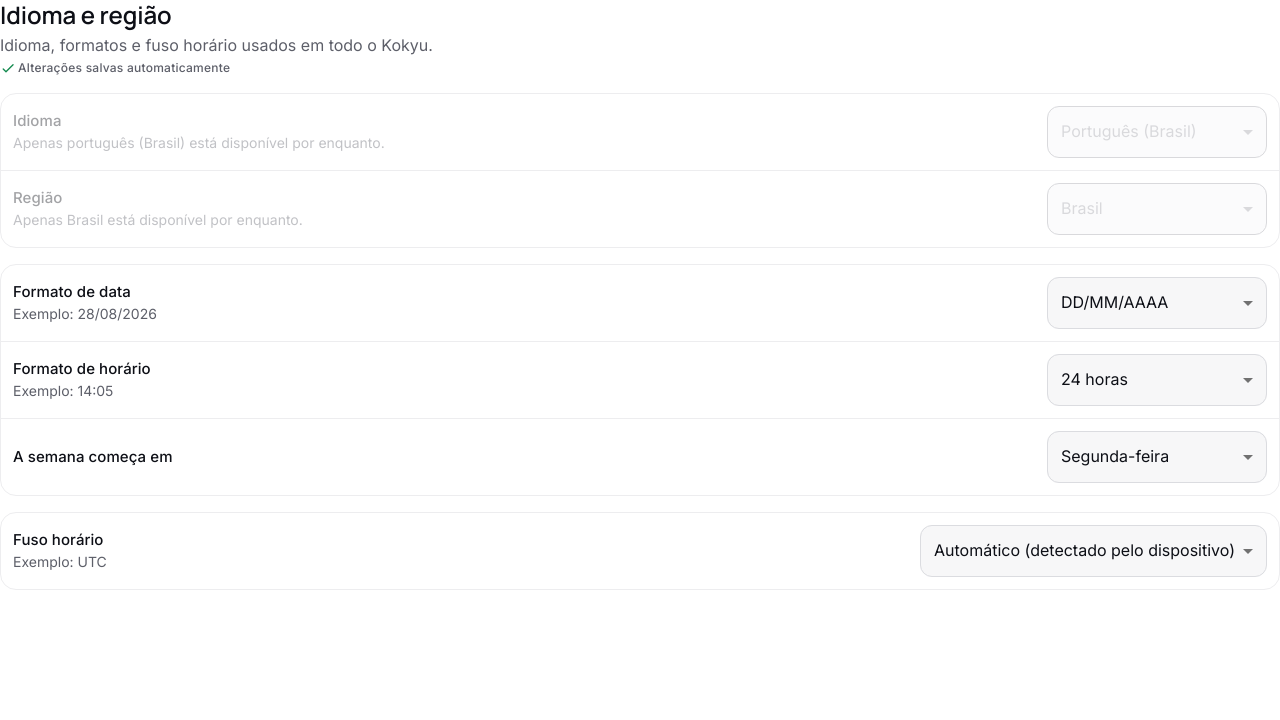
Test: LocaleSettings › changes "A semana começa em"
Step 1. Click the dropdown named "A semana começa em" → (1115, 456), box [1061, 446, 1169, 466]
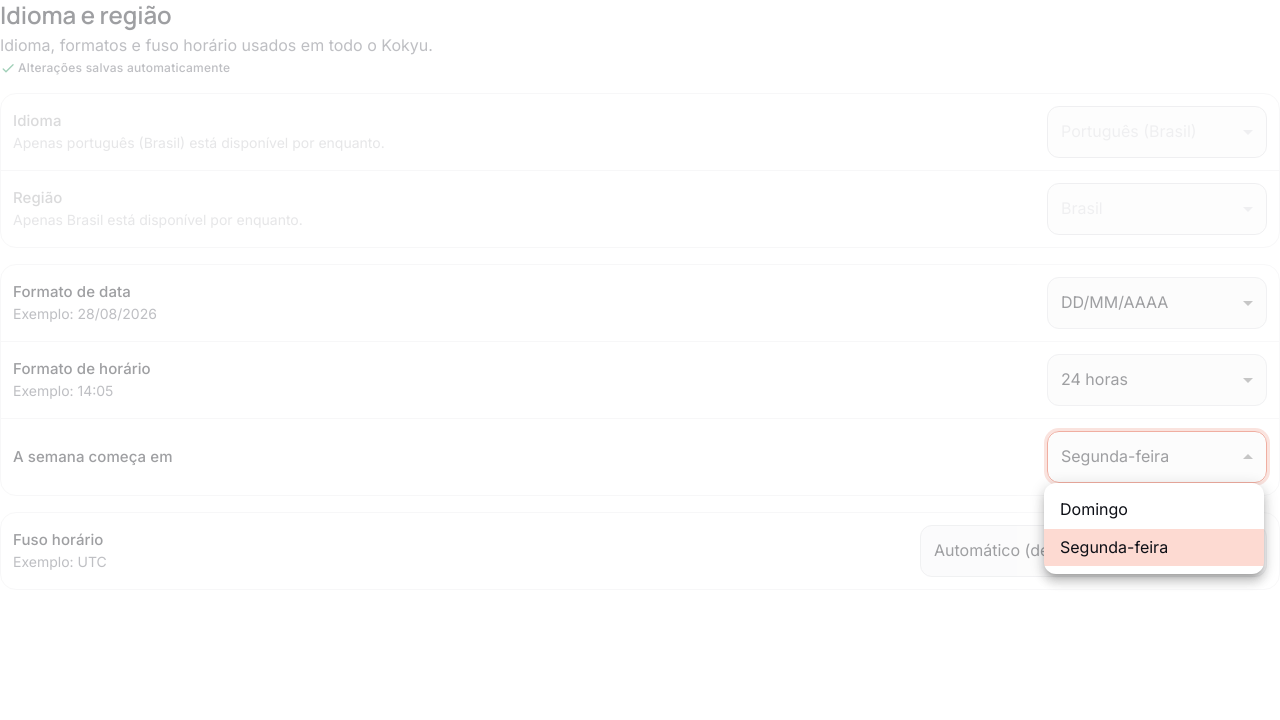
Step 2. Click the option "Domingo" → (1094, 509), box [1060, 499, 1128, 519]
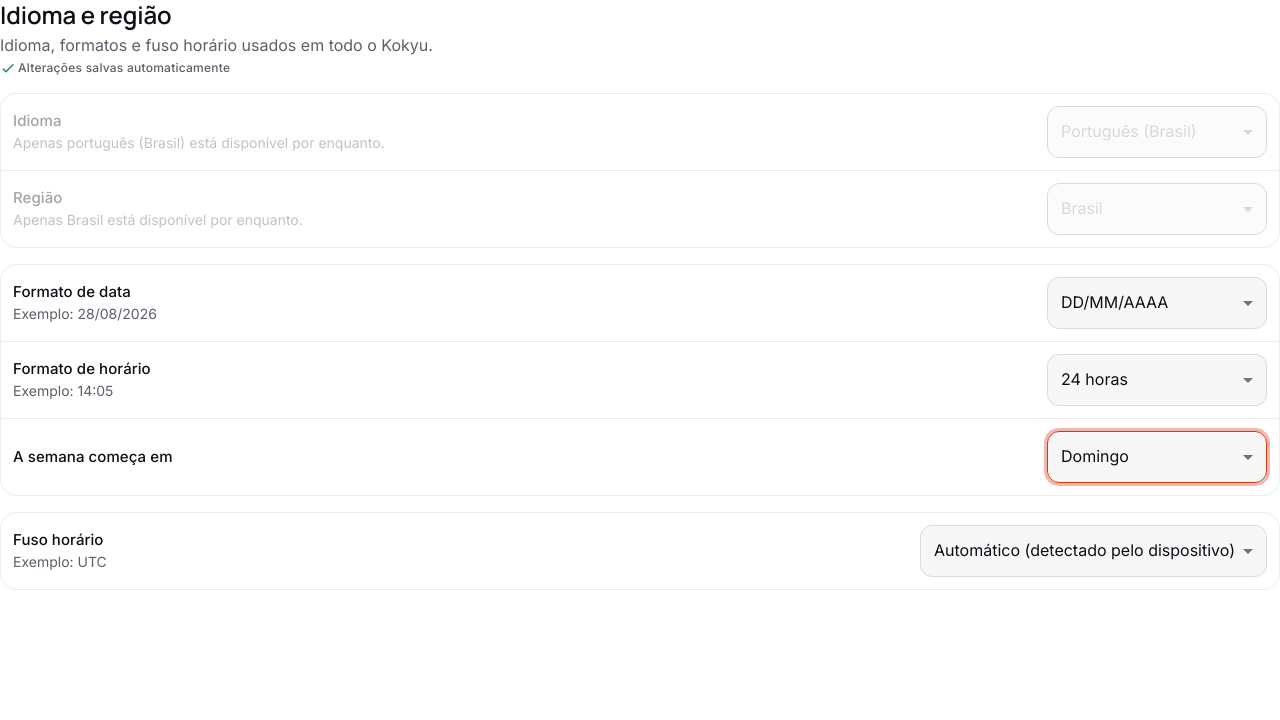
Expected: the dropdown named "A semana começa em" reads "Domingo", [1061, 446, 1129, 466]
